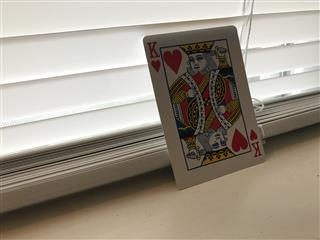KingOfHearts: (142, 25, 265, 189)
